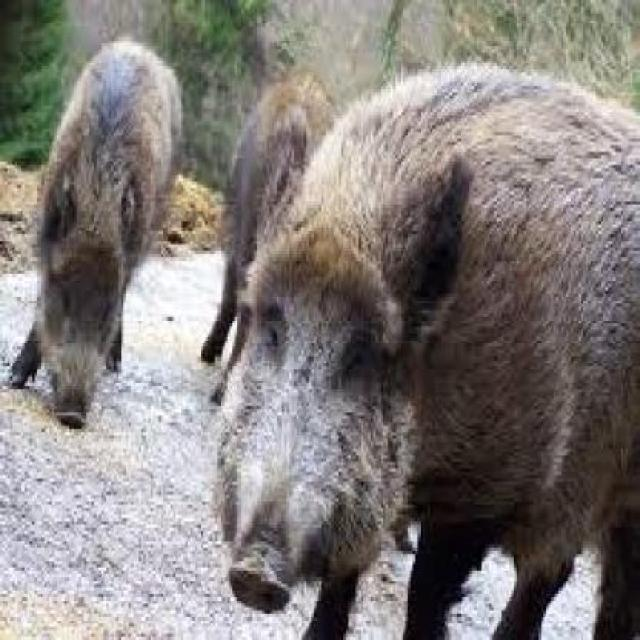wildboar: (214, 56, 640, 638), (0, 35, 189, 432), (194, 66, 355, 377)
